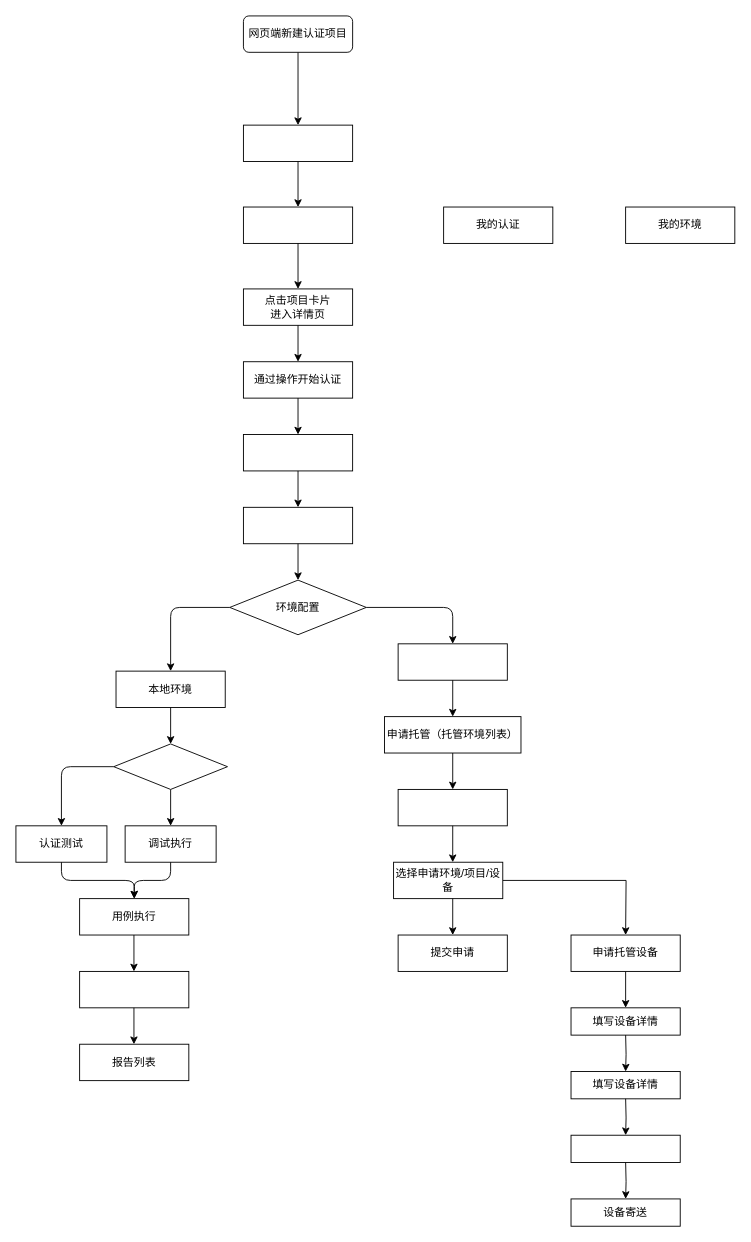
The diagram is 751 pixels wide and 1242 high, and some of its shapes have lost their labels. The shapes that lost their labels are listed below. From the top down, each one's centre as x and y in pixels, then its label:
At (298,143): "下载工具/进入工具".
At (298,224): "最近打开 项目列表（卡片）".
At (298,452): "到资源准备（用例准备）".
At (298,525): "测试执行".
At (452,661): "托管环境".
At (170,766): "用例选择".
At (452,807): "选择申请时间和地点".
At (134,989): "查看报告结果".
At (625,1148): "进入设备管理列表".
